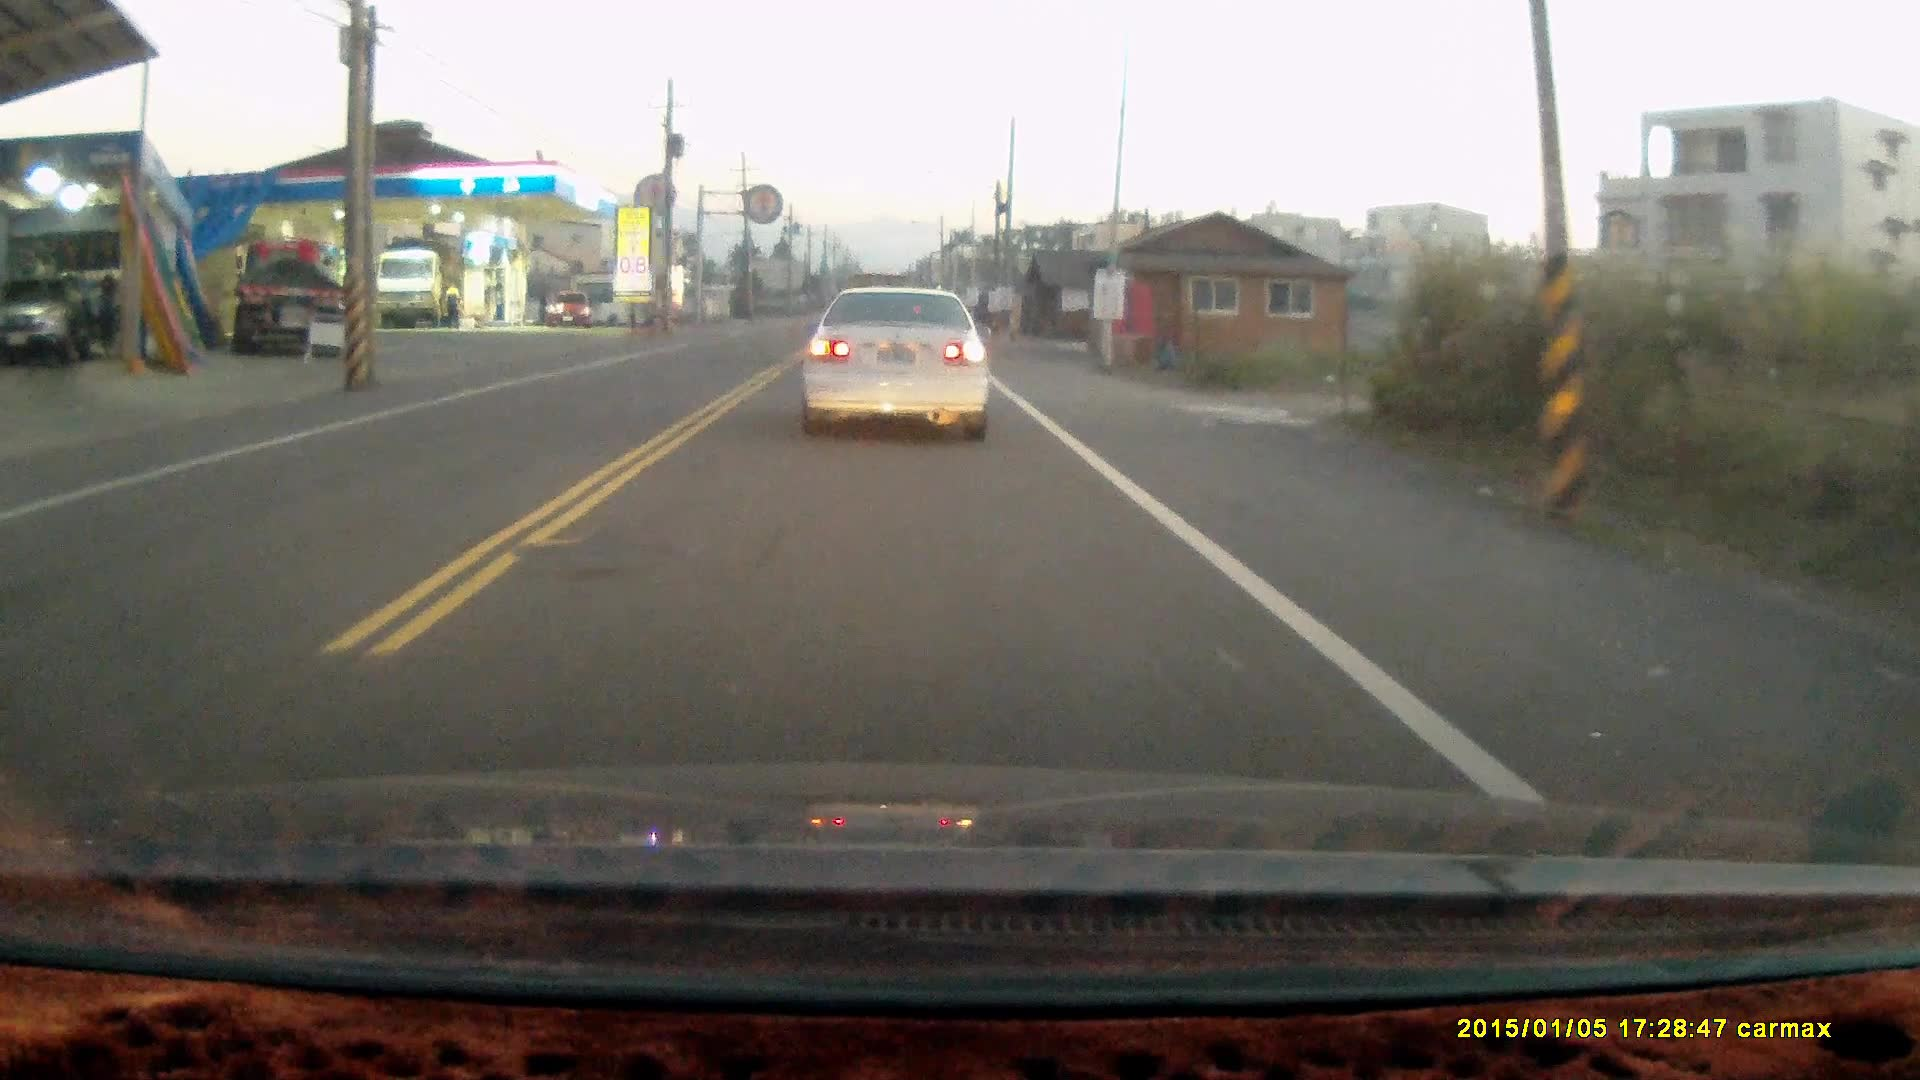pedestrian: (441, 281, 462, 329)
vehicle: (795, 281, 995, 449), (228, 241, 339, 356), (376, 252, 456, 337), (548, 294, 591, 332)
